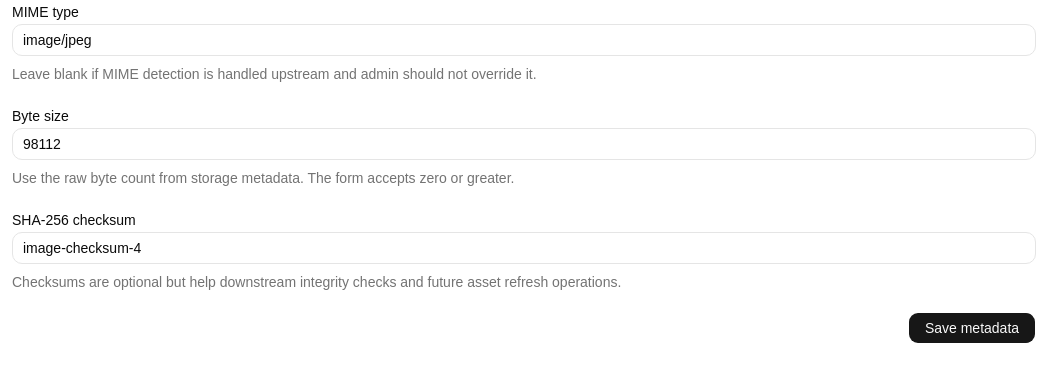
AssetMetadataForm › validates byte size before submit
Replace the text in the number field labelled "Byte size" with "-1" at point(524, 144), box [12,128,1036,160]
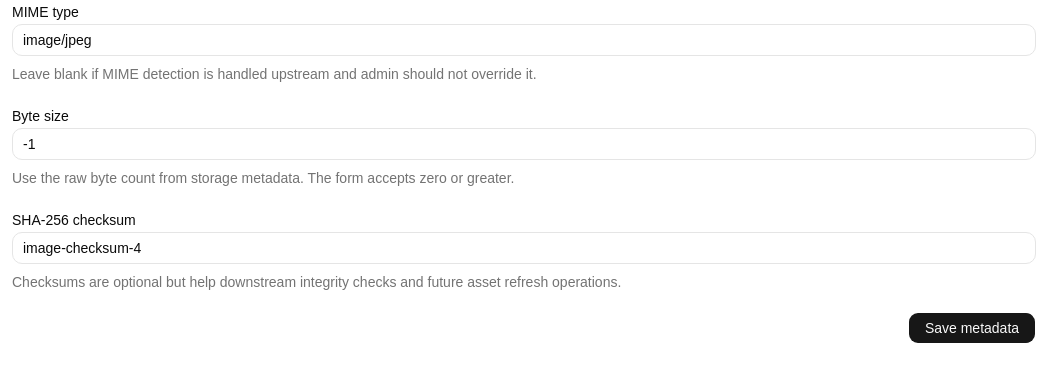
Click the button "Save metadata" at point(972, 328), box [908,312,1036,344]
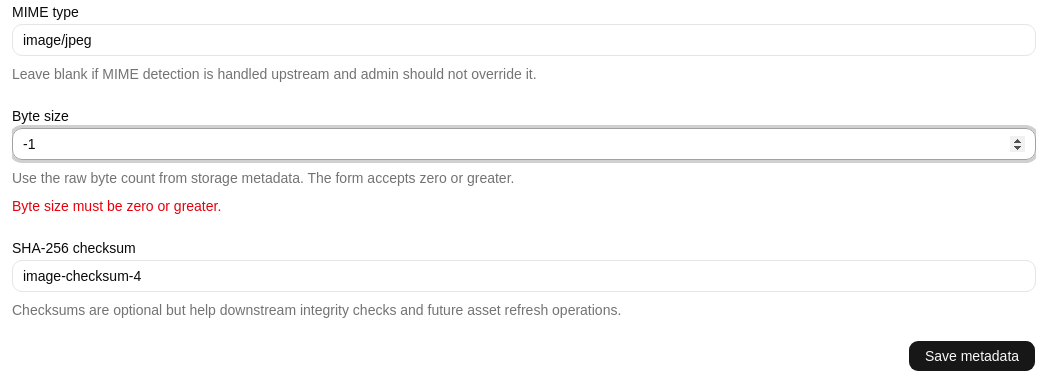
Expected: the text "Byte size must be zero or greater." is shown, [12,198,221,214]
